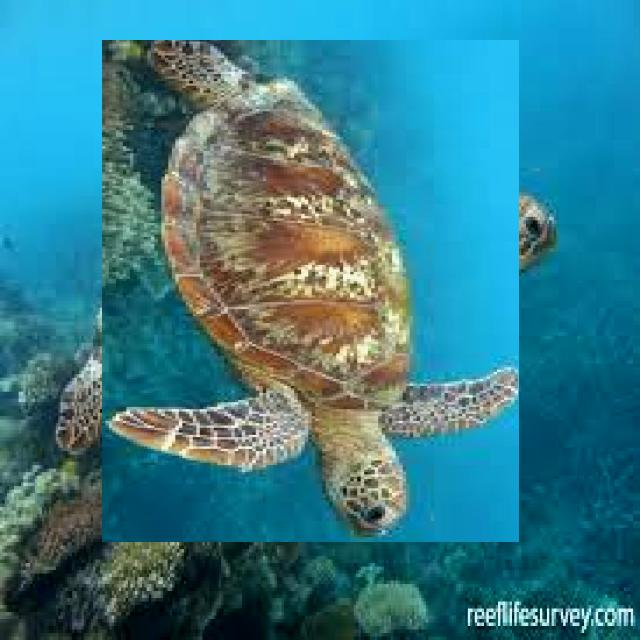Sea turtle: (80, 61, 540, 521)
